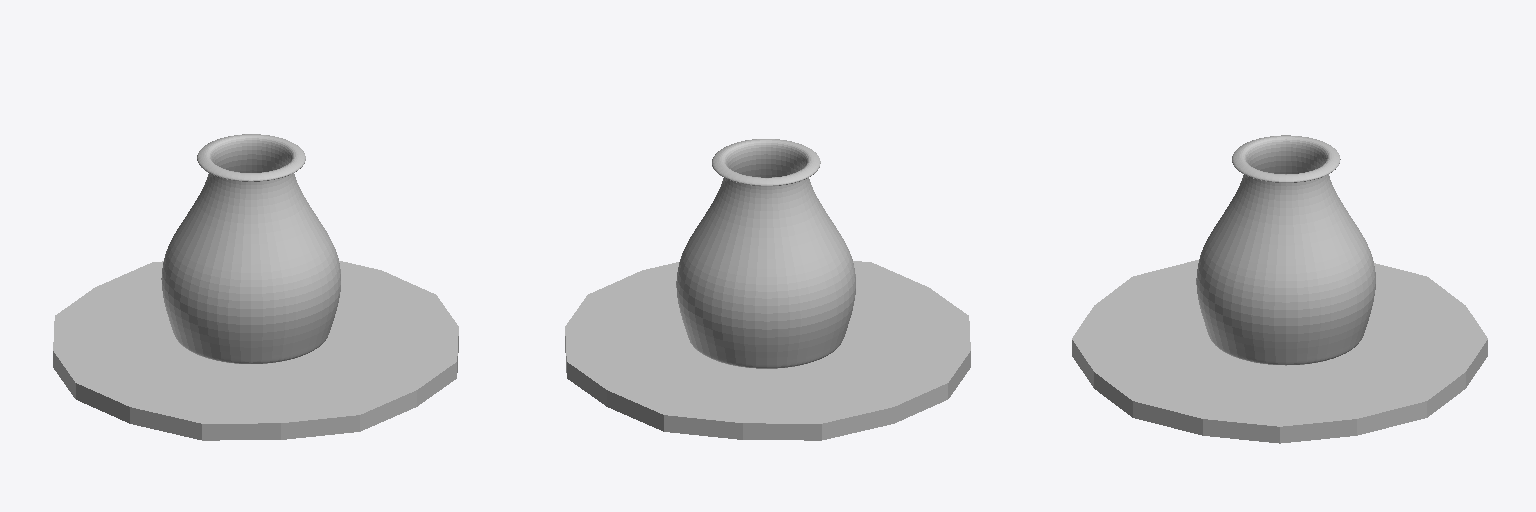
File: pot2.obj
3 views of the same model, side by side, from view 1: azimuth 30°, elevation 25°; view 2: azimuth 150°, elevation 25°; view 3: azimuth 270°, elevation 25° (orthographic).
Parts seen in each view (by area): view 1: Mesh.001_None_(null)_Untitled, Mesh_None_None_PotLightMap; view 2: Mesh.001_None_(null)_Untitled, Mesh_None_None_PotLightMap; view 3: Mesh.001_None_(null)_Untitled, Mesh_None_None_PotLightMap.
Boxes of the visible parts, box(x1,y1,x2,y2) form: Mesh.001_None_(null)_Untitled: box(53, 261, 458, 440); Mesh_None_None_PotLightMap: box(161, 134, 340, 364); Mesh.001_None_(null)_Untitled: box(565, 261, 970, 440); Mesh_None_None_PotLightMap: box(676, 139, 855, 368); Mesh.001_None_(null)_Untitled: box(1072, 260, 1487, 443); Mesh_None_None_PotLightMap: box(1196, 135, 1375, 365).
Size of the model in its own units: 3.6 by 1.9 by 3.6.